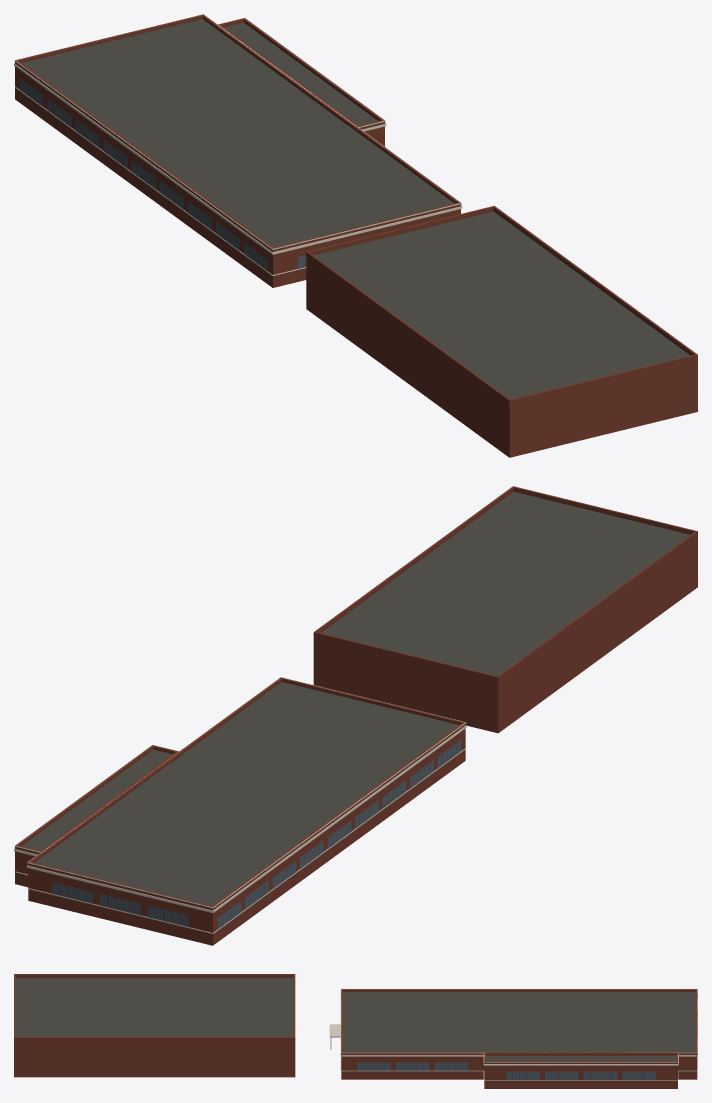
Rendered from metropolitan-career-technical-center-building-part.glb.
3 renders of one model, top to bottom at view 1: azimuth 30°, elevation 25°; view 2: azimuth 150°, elevation 25°; view 3: azimuth 270°, elevation 25°, orthographic. The views are drawn at different scales.
Visible parts, largest first — view 1: metropolitan_career_technical_center_building_part; view 2: metropolitan_career_technical_center_building_part; view 3: metropolitan_career_technical_center_building_part.
Part boxes in pixels (box(x1,y1,x2,y2)): metropolitan_career_technical_center_building_part: box(14, 14, 697, 457); metropolitan_career_technical_center_building_part: box(14, 486, 697, 945); metropolitan_career_technical_center_building_part: box(14, 974, 697, 1088).
Size of the model in its own units: 35.74 by 9.55 by 141.
